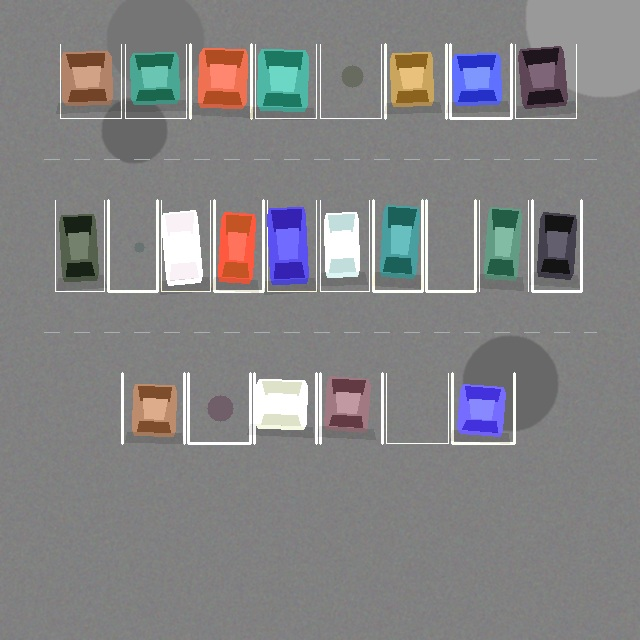space-empty: (320, 44, 381, 118), (108, 200, 157, 291), (426, 200, 475, 291), (188, 373, 250, 443), (386, 373, 448, 443)
space-occupied: (60, 44, 121, 118), (125, 44, 186, 118), (190, 44, 251, 118), (255, 44, 316, 118), (385, 44, 446, 118), (450, 44, 511, 118), (515, 44, 576, 118), (55, 200, 104, 291), (161, 200, 210, 291), (214, 200, 263, 291), (267, 200, 316, 291), (320, 200, 369, 291), (373, 200, 422, 291), (479, 200, 528, 291), (532, 200, 581, 291), (122, 373, 184, 443), (254, 373, 316, 443), (320, 373, 382, 443), (452, 373, 514, 443)
